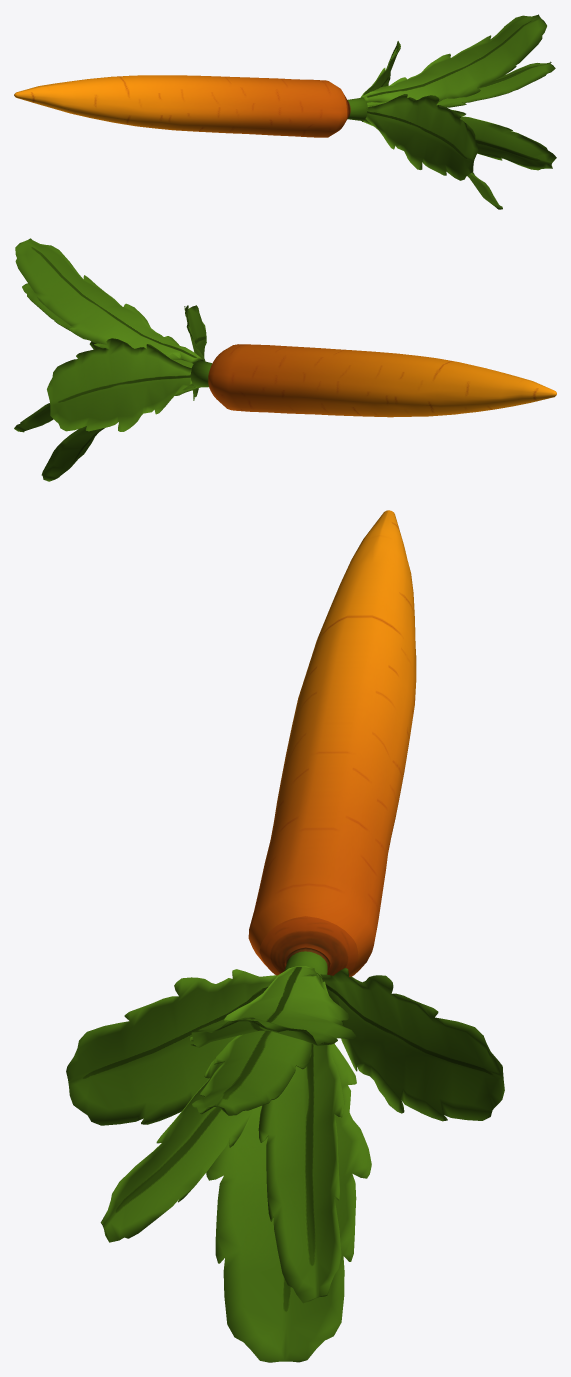
Rendered from carrot_dynamic.obj.
3 views of the same model, one above another, from view 1: azimuth 30°, elevation 25°; view 2: azimuth 150°, elevation 25°; view 3: azimuth 270°, elevation 25° (orthographic). The views are drawn at different scales.
Bounding box in the file's own units: 0.8048 × 0.3201 × 0.3075.
3 materials, 3 textured.
